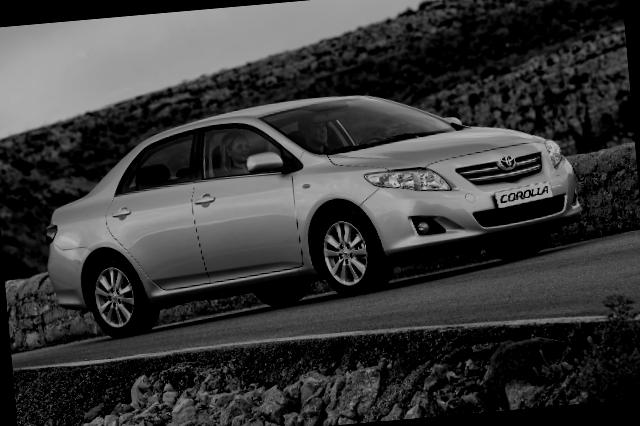sedan: (24, 57, 606, 350)
